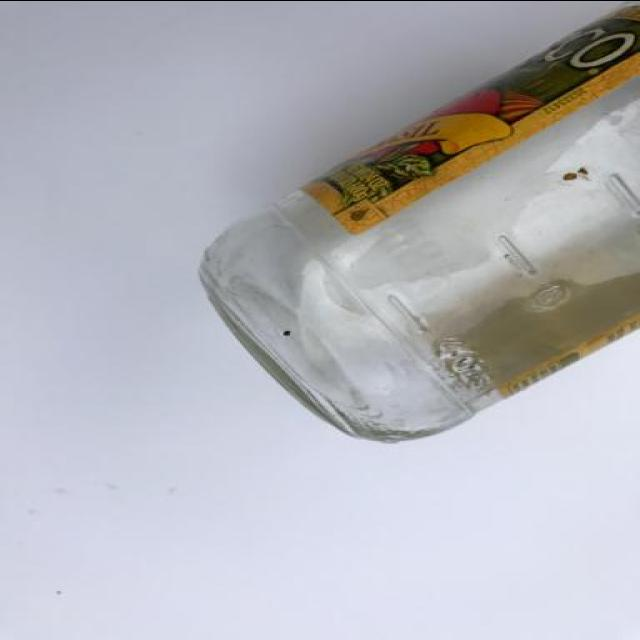Glass Bottle: (195, 1, 640, 442)
